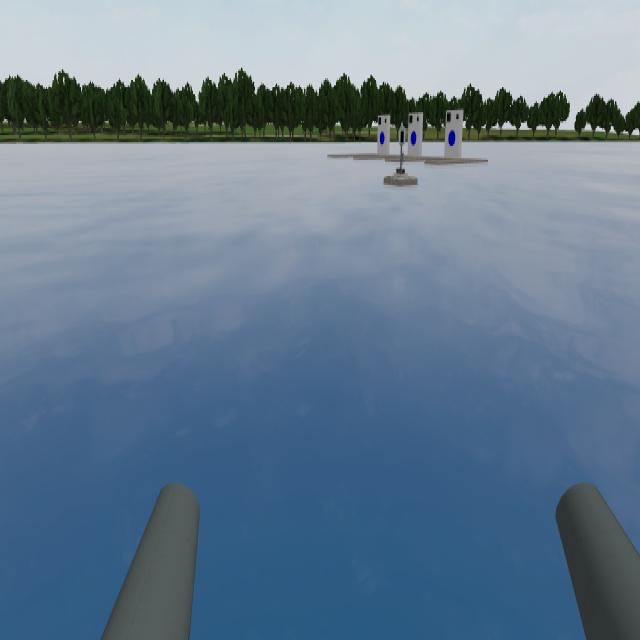black_pole: (393, 115, 409, 152)
